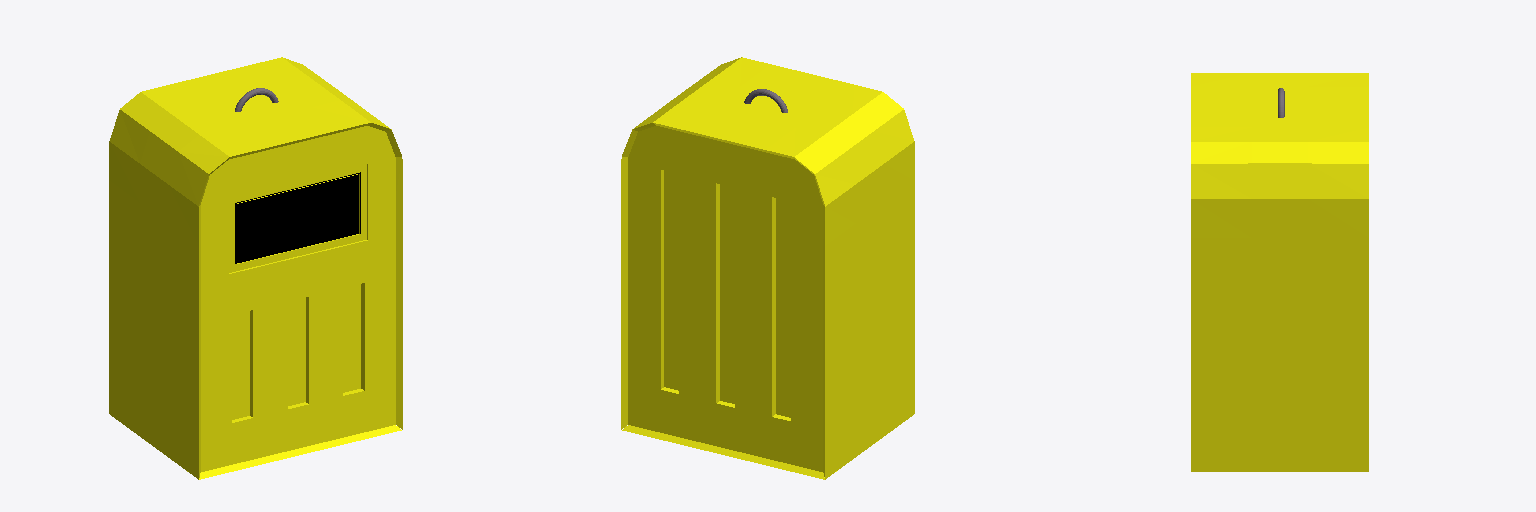
Rendered from EcopontoAmarelo.obj.
The picture shows the model from 3 angles: view 1: azimuth 30°, elevation 25°; view 2: azimuth 150°, elevation 25°; view 3: azimuth 270°, elevation 25°; orthographic projection.
Visible parts, largest first — view 1: Cube.1, Cube.2; view 2: Cube.1; view 3: Cube.1.
Part boxes in pixels (bbox=[...]): Cube.1: bbox=[109, 57, 402, 479]; Cube.2: bbox=[235, 172, 360, 263]; Cube.1: bbox=[621, 57, 914, 479]; Cube.1: bbox=[1191, 73, 1368, 471].
Bounding box in the file's own units: 209 × 326 × 159.